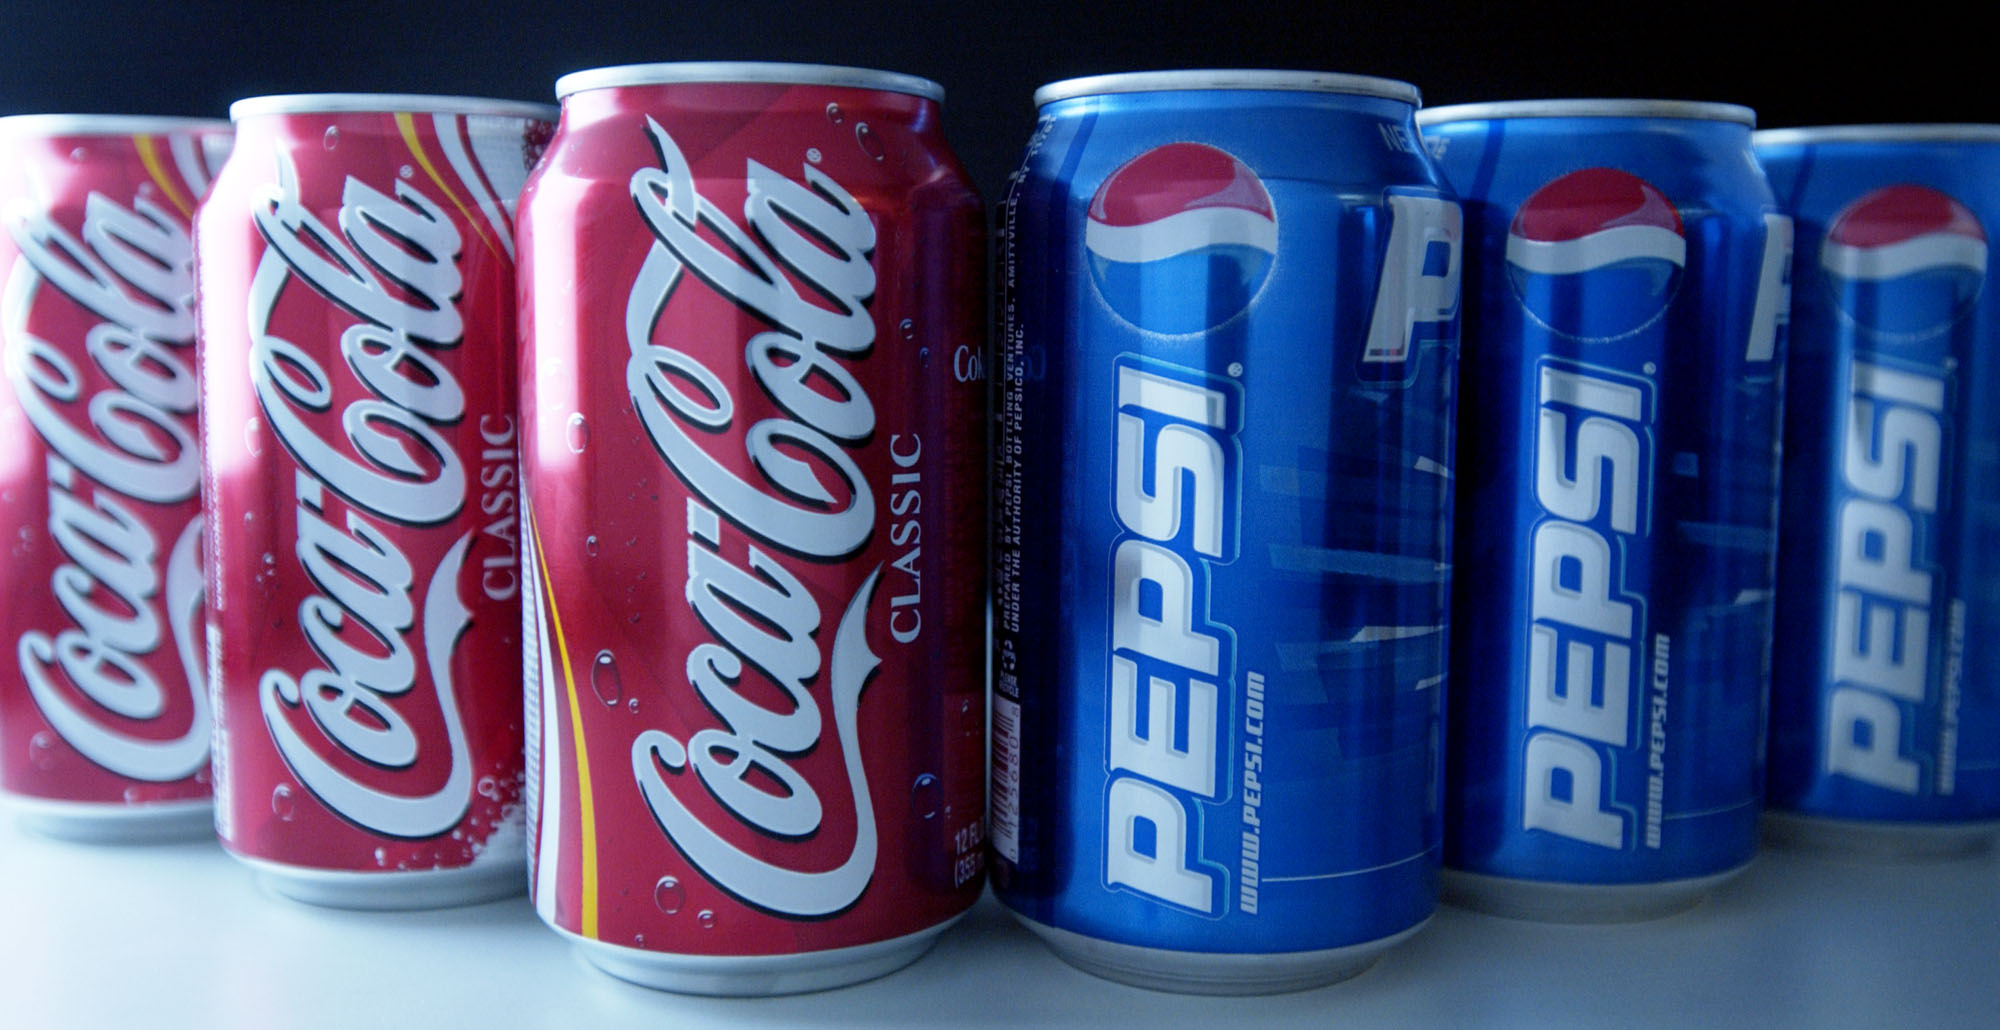pepsi: (1083, 145, 1278, 331), (1093, 145, 1278, 331), (1508, 164, 1685, 339), (1825, 177, 1989, 335)
